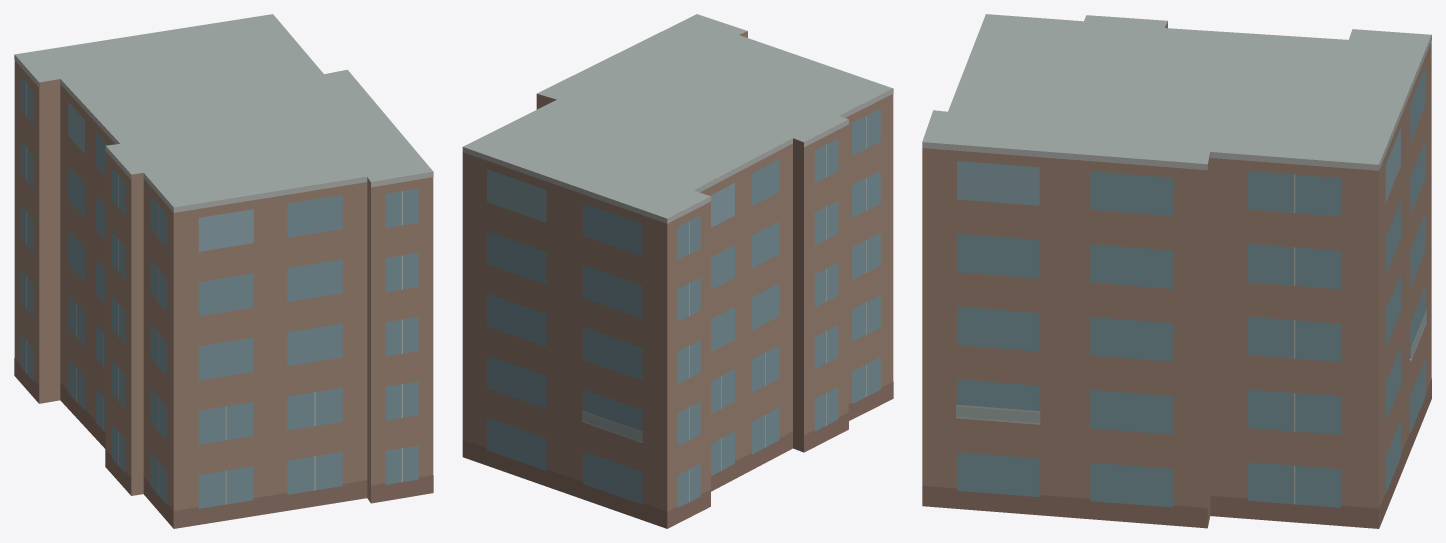
File: survey-upis-32542058.glb
The picture shows the model from 3 angles, left to right: view 1: azimuth 30°, elevation 25°; view 2: azimuth 150°, elevation 25°; view 3: azimuth 270°, elevation 25°; orthographic projection. The views are drawn at different scales.
Parts seen in each view (by area): view 1: survey-upis-32542058.tmp; view 2: survey-upis-32542058.tmp; view 3: survey-upis-32542058.tmp.
Boxes of the visible parts, x1,y1,x2,y2 form: survey-upis-32542058.tmp: [14, 14, 433, 528]; survey-upis-32542058.tmp: [462, 14, 893, 528]; survey-upis-32542058.tmp: [922, 14, 1431, 528].
Bounding box in the file's own units: 13.07 × 14.7 × 18.66.
